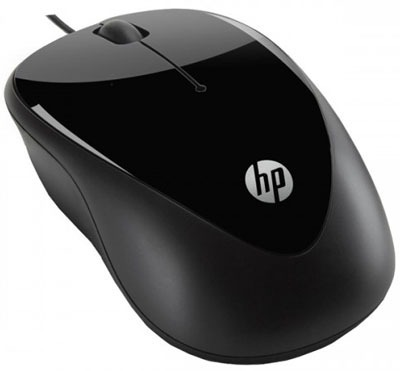hp-mouse-X1000: (1, 3, 399, 370)
